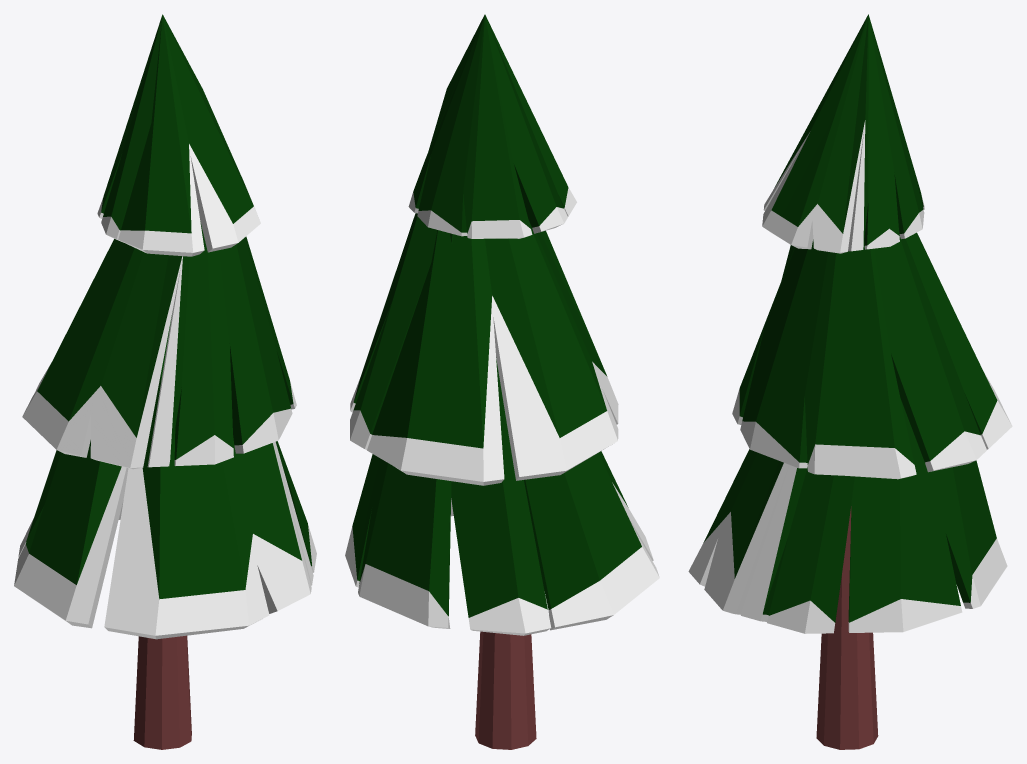
Rendered from SM_Pine_01.fbx.
3 views of the same model, side by side, from view 1: azimuth 30°, elevation 25°; view 2: azimuth 150°, elevation 25°; view 3: azimuth 270°, elevation 25° (orthographic). The views are drawn at different scales.
Visible parts, largest first — view 1: SM_Pine_01_LOD0; view 2: SM_Pine_01_LOD0; view 3: SM_Pine_01_LOD0.
Boxes of the visible parts, x1=… form: SM_Pine_01_LOD0: x1=14, y1=14, x2=316, y2=749; SM_Pine_01_LOD0: x1=345, y1=14, x2=659, y2=749; SM_Pine_01_LOD0: x1=688, y1=14, x2=1012, y2=749.
Size of what is drawn, in the model's own units: 97.77 by 256 by 103.
